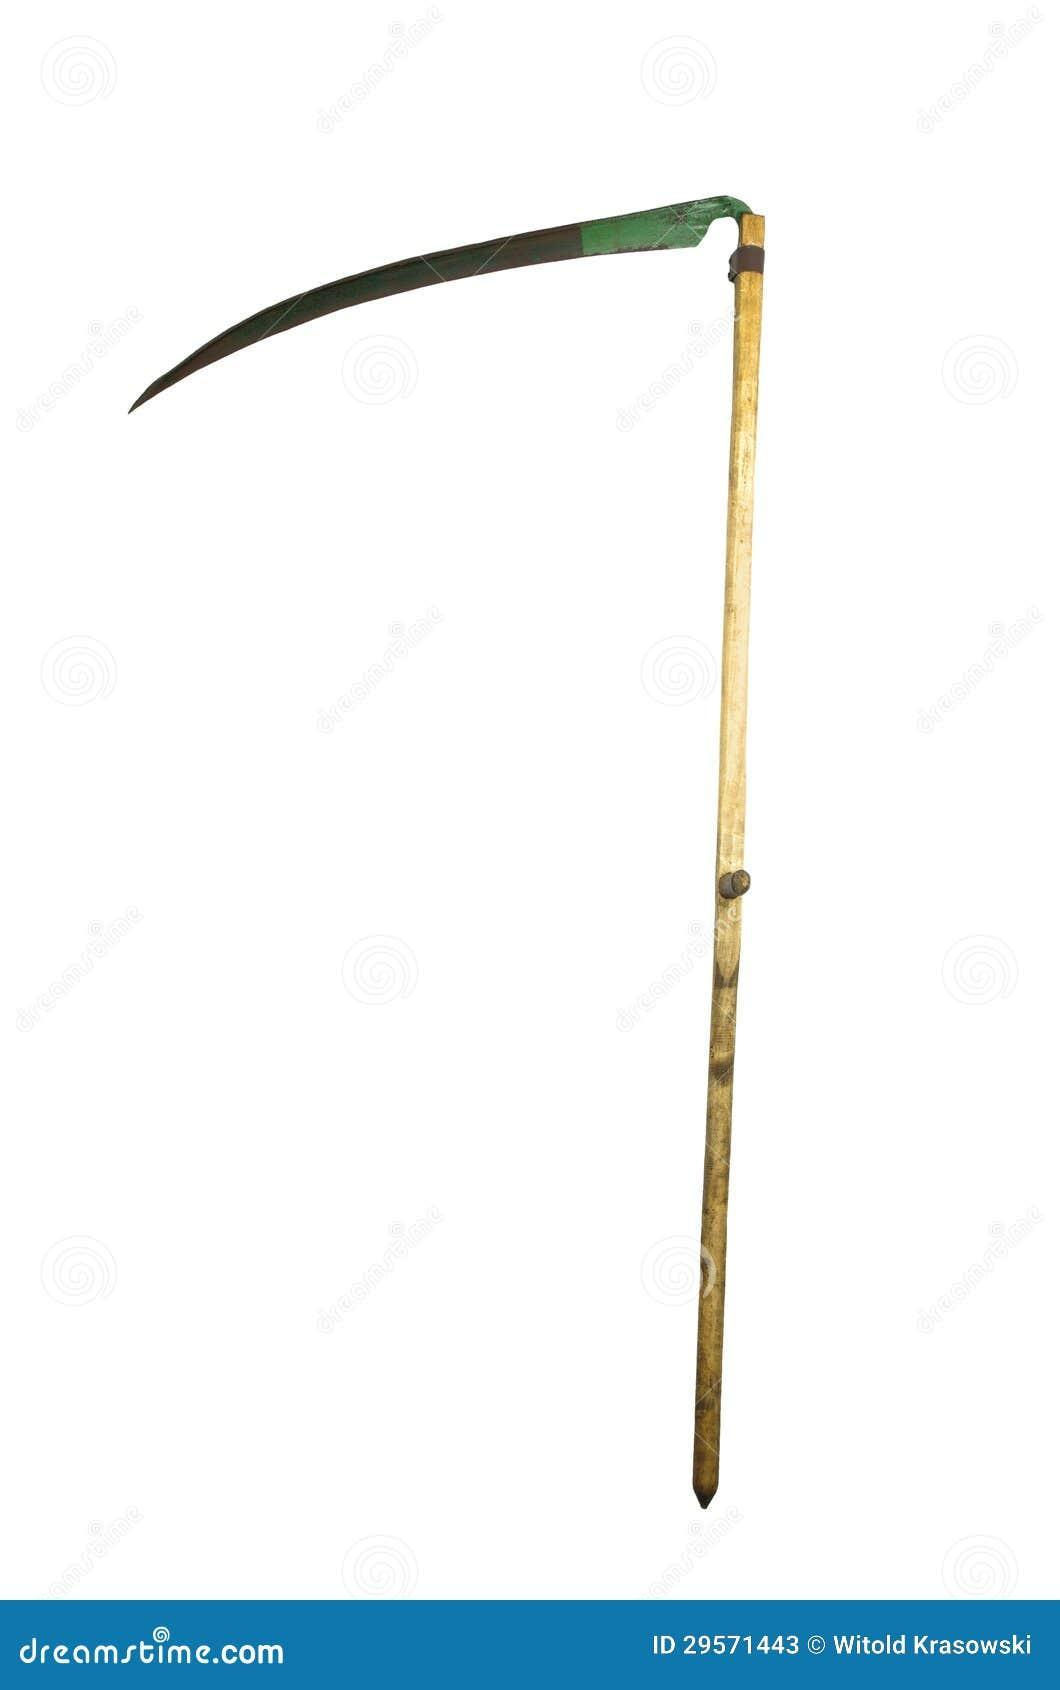foice: (117, 203, 771, 606)
